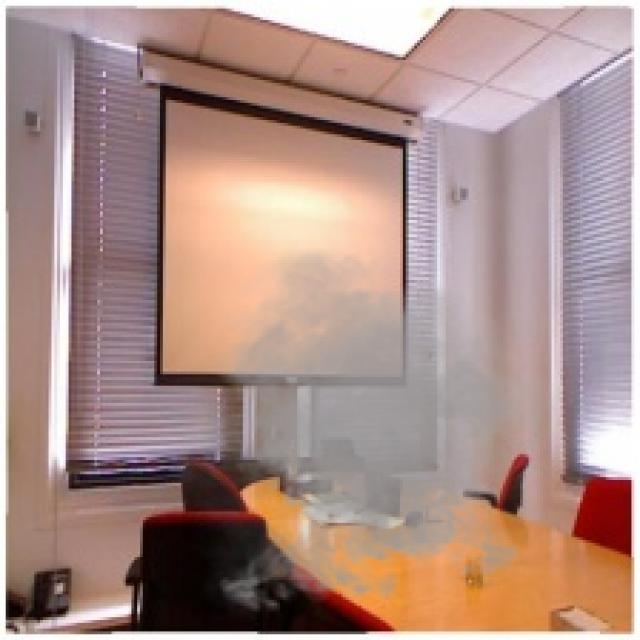smoke: (157, 243, 583, 623)
